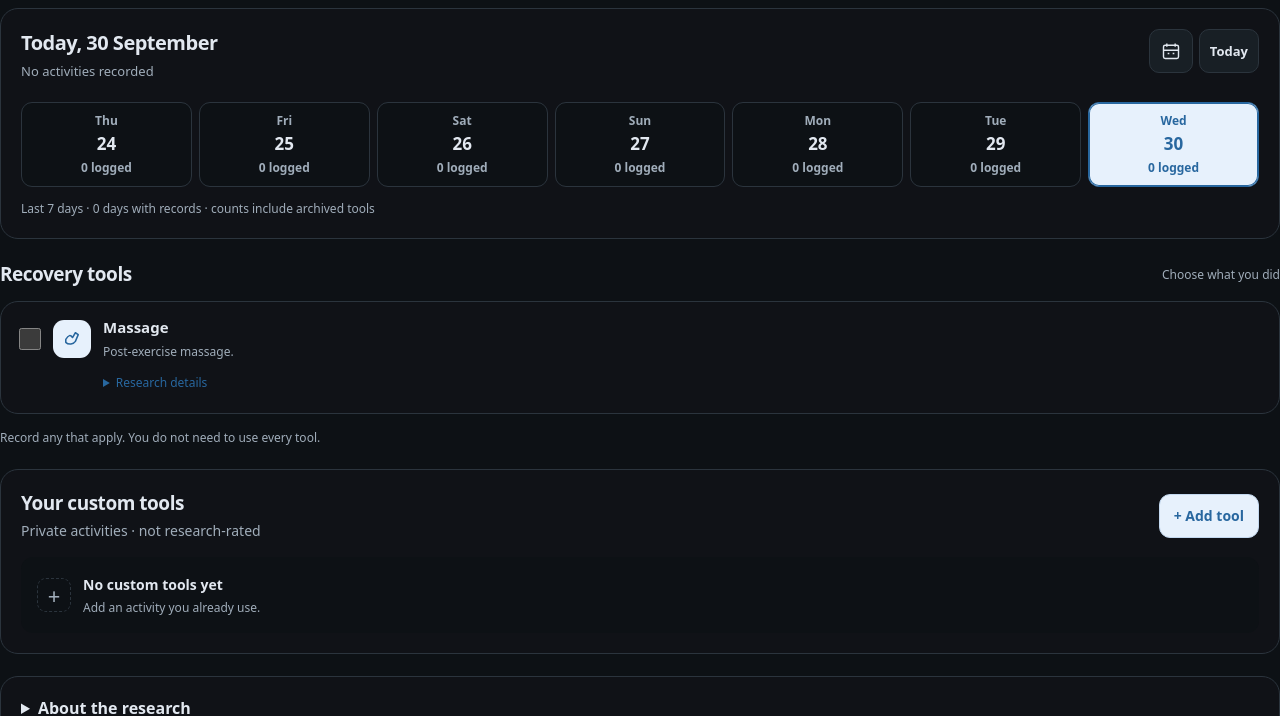
Test: Recovery › lets Pro add an unrated tool and archive it without erasing history
Expected: the field labelled "Tool name" is not shown
Step 1. Click the button with aria-label "Add custom tool" → point(1209, 516), box [1159,494,1259,538]
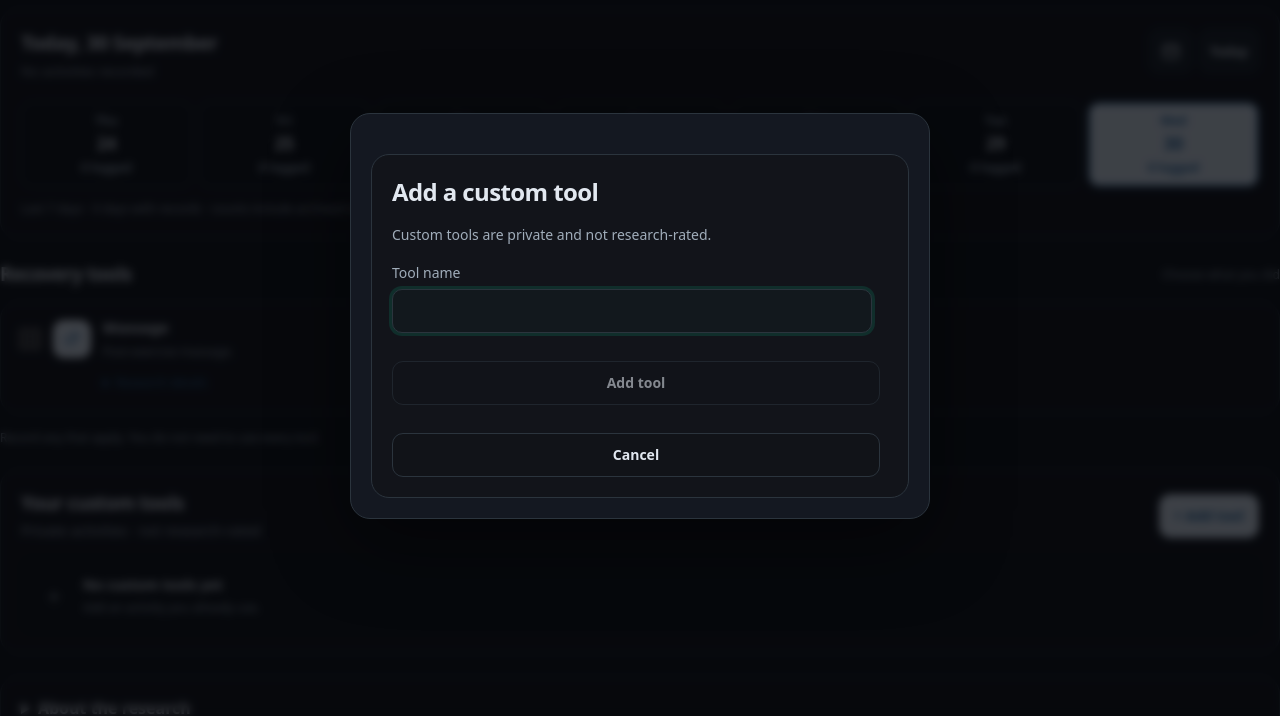
Step 2. Type "Sauna" into the field labelled "Tool name" → point(632, 311), box [392,289,872,333]
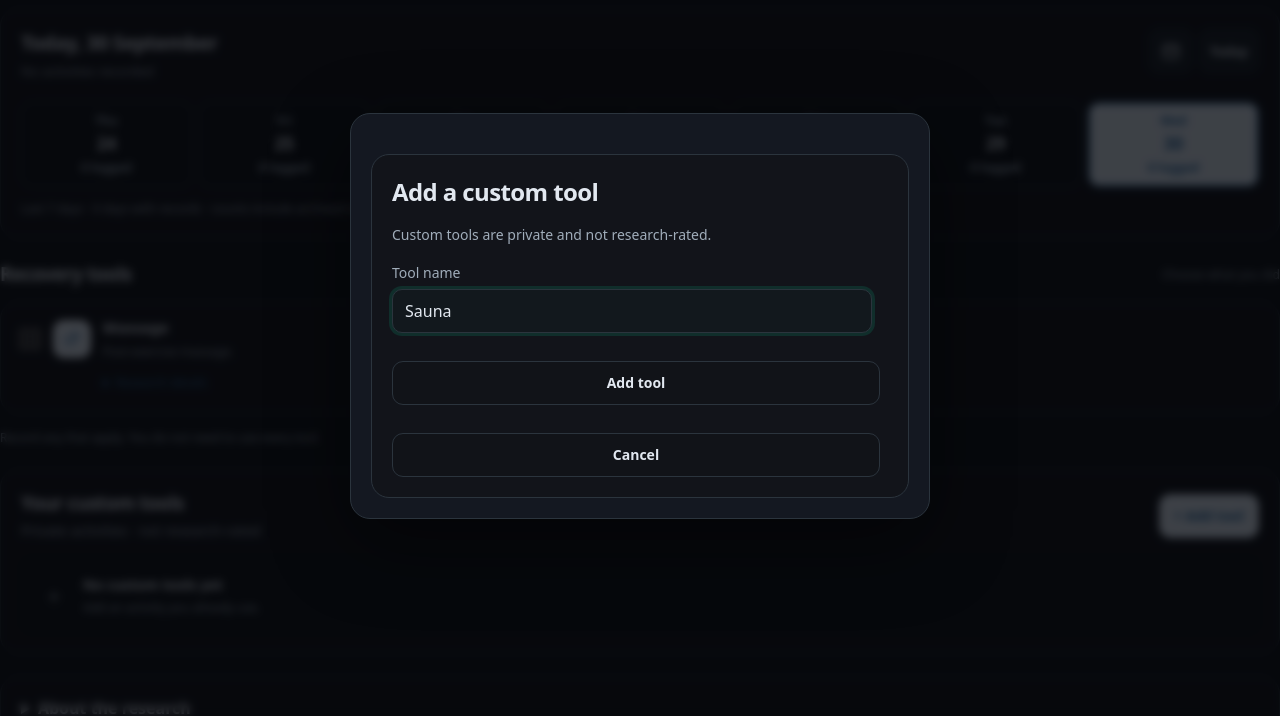
Step 3. Click the button "Add tool" → point(636, 383), box [392,361,880,405]
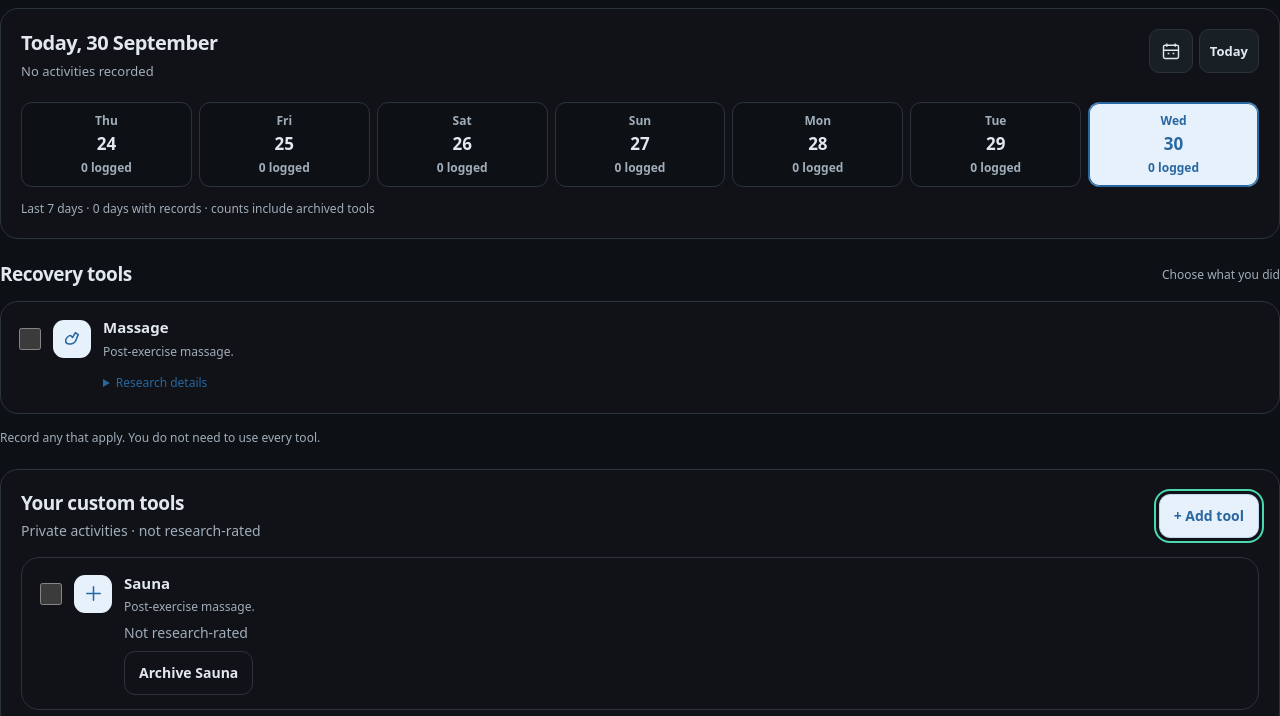
Expected: the text "Not research-rated" is shown, [124,623,248,642]
Expected: the checkbox labelled "Sauna" is shown, [40,583,62,605]
Expected: the dialog is gone
Step 4. Click the button "Archive Sauna" → point(189, 673), box [124,651,253,695]
(page scrolled)
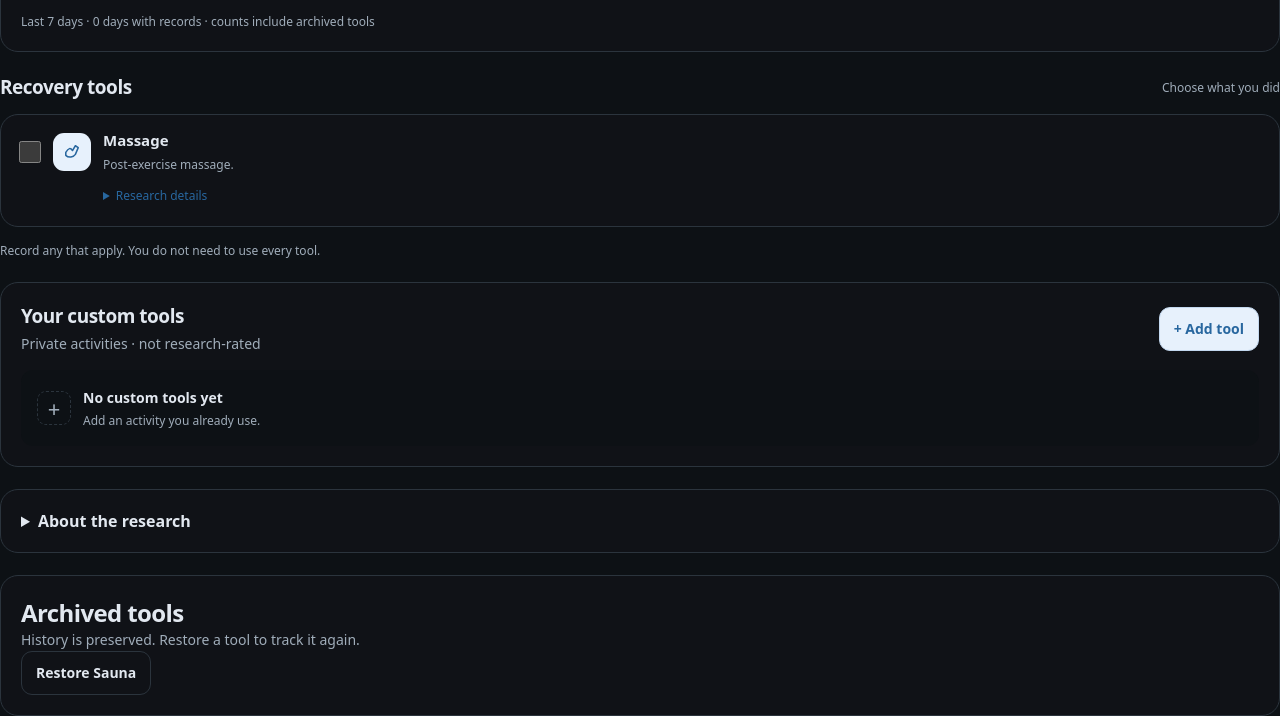
Expected: the button "Restore Sauna" is shown, [21,651,151,695]
